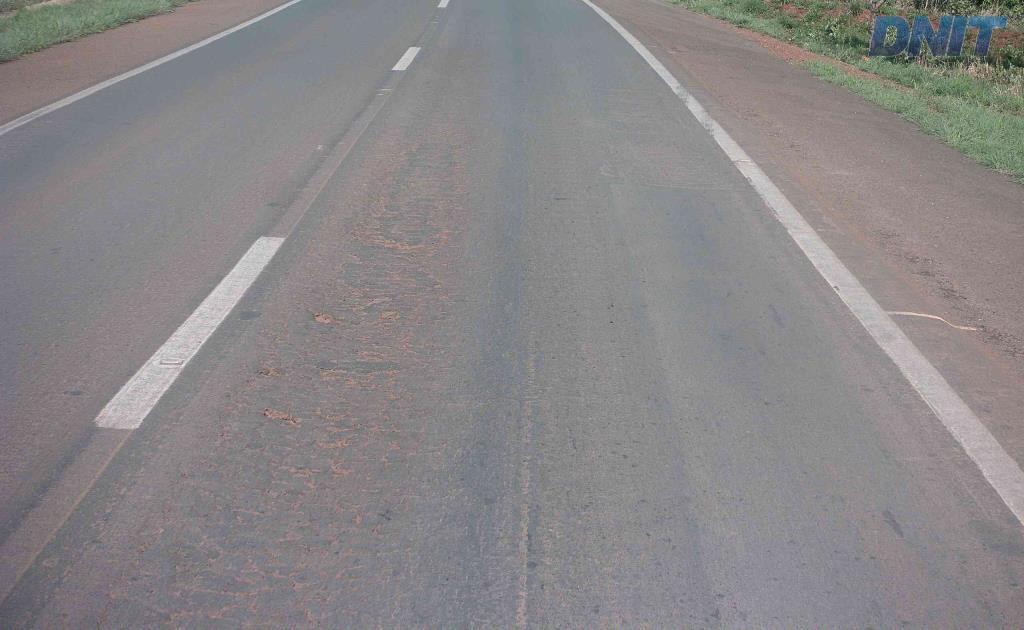pothole: (257, 399, 311, 435), (304, 301, 346, 327)
